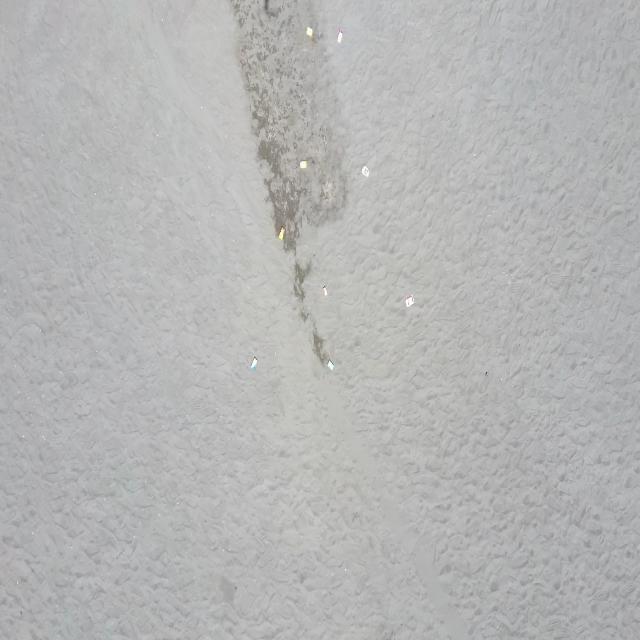Garbage: (404, 295, 413, 307), (360, 164, 368, 176), (336, 28, 342, 42), (249, 356, 256, 368), (306, 26, 312, 36), (327, 360, 333, 369), (300, 160, 307, 167), (280, 226, 283, 240), (323, 286, 327, 296)
